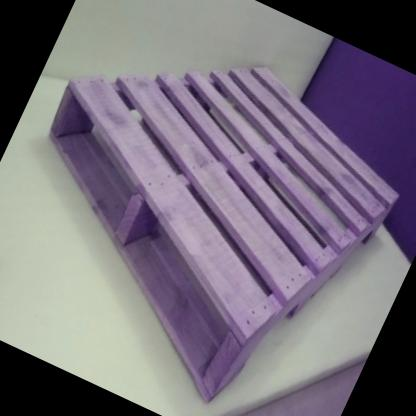BoxFace: (48, 63, 402, 410)
